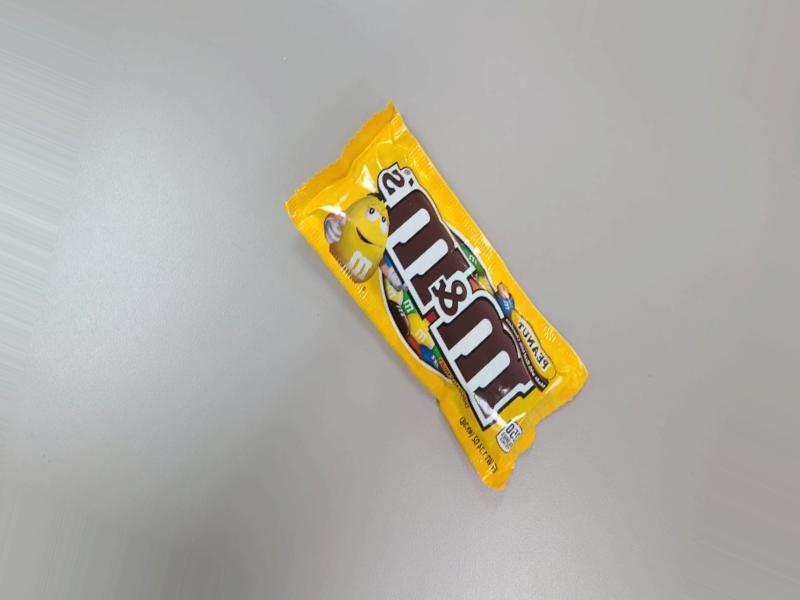m&m: (257, 76, 571, 511)
